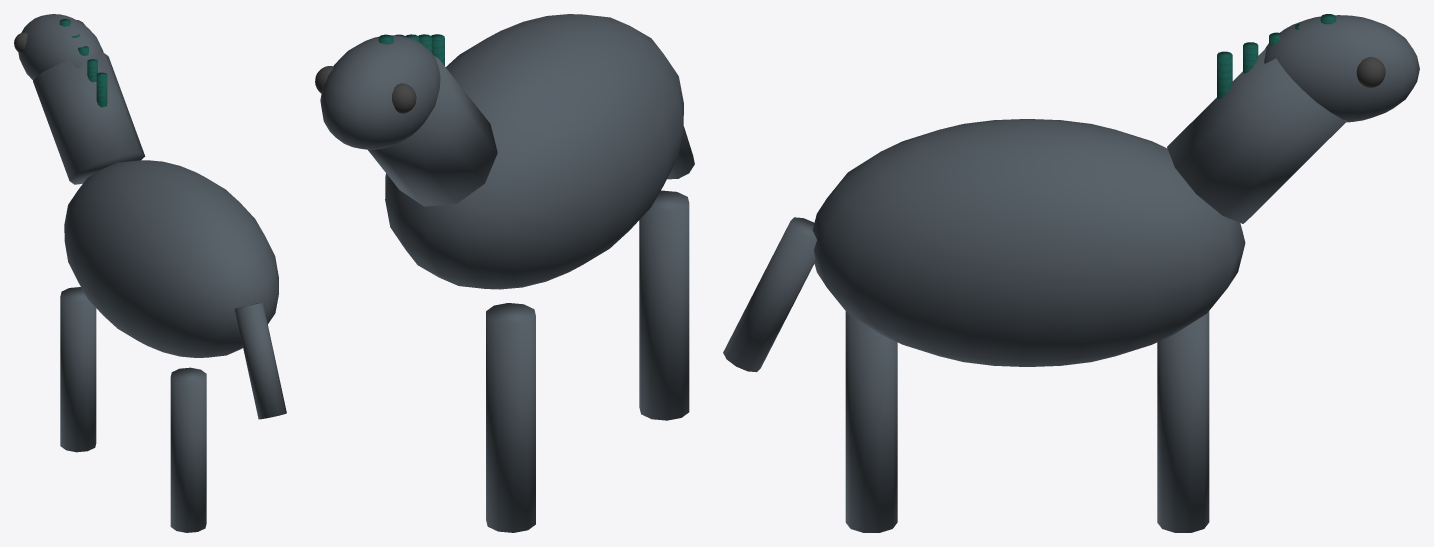
File: kelpie.glb
3 renders of one model, left to right at view 1: azimuth 30°, elevation 25°; view 2: azimuth 150°, elevation 25°; view 3: azimuth 270°, elevation 25°, orthographic. The views are drawn at different scales.
Parts seen in each view (by area): view 1: Body, Neck, Leg.001, Leg, Head, Tail, ReedMane; view 2: Body, Leg, Leg.001, Head, Neck, Tail, Eye; view 3: Body, Neck, Leg, Leg.001, Head, Tail.
Part boxes in pixels (x1=…): Body: x1=64, y1=160, x2=278, y2=357; Neck: x1=33, y1=52, x2=145, y2=184; Leg.001: x1=170, y1=367, x2=206, y2=532; Leg: x1=60, y1=287, x2=96, y2=452; Head: x1=18, y1=14, x2=103, y2=80; Tail: x1=235, y1=302, x2=286, y2=419; ReedMane: x1=96, y1=72, x2=107, y2=107; Body: x1=385, y1=14, x2=683, y2=289; Leg: x1=486, y1=303, x2=535, y2=532; Leg.001: x1=639, y1=190, x2=689, y2=420; Head: x1=320, y1=35, x2=440, y2=149; Neck: x1=368, y1=56, x2=497, y2=206; Tail: x1=667, y1=126, x2=694, y2=179; Eye: x1=391, y1=83, x2=416, y2=113; Body: x1=812, y1=119, x2=1245, y2=366; Neck: x1=1167, y1=48, x2=1346, y2=223; Leg: x1=1157, y1=311, x2=1209, y2=532; Leg.001: x1=845, y1=311, x2=897, y2=532; Head: x1=1264, y1=15, x2=1419, y2=122; Tail: x1=723, y1=217, x2=816, y2=372.
Bounding box in the file's own units: 0.48 × 1.13 × 1.34.
Materials: 3 (1 with a texture image).
